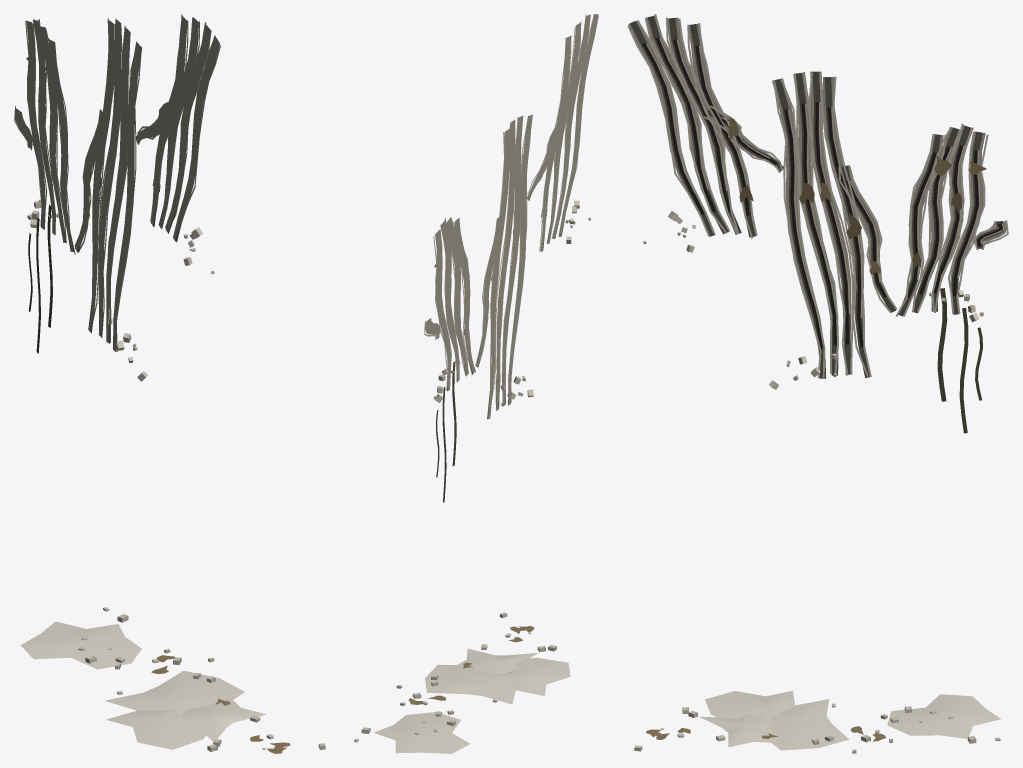
The model's file is skin_scratches.glb.
3 renders of one model, left to right at view 1: azimuth 30°, elevation 25°; view 2: azimuth 150°, elevation 25°; view 3: azimuth 270°, elevation 25°, orthographic. The views are drawn at different scales.
Visible parts, largest first — view 1: teil0, teil7, teil3, teil6, teil1; view 2: teil0, teil7, teil3, teil6, teil1; view 3: teil3, teil1, teil0, teil7, teil2, teil6, teil5, teil4.
Boxes of the visible parts, box(x1,y1,x2,y2) form: teil0: box(14, 15, 219, 351); teil7: box(20, 621, 266, 749); teil3: box(14, 14, 325, 751); teil6: box(28, 204, 52, 353); teil1: box(17, 19, 218, 351); teil0: box(425, 14, 598, 418); teil7: box(374, 648, 570, 753); teil3: box(354, 14, 598, 742); teil6: box(436, 361, 456, 502); teil1: box(436, 14, 597, 418); teil3: box(627, 14, 1008, 753); teil1: box(630, 16, 1003, 378); teil0: box(628, 15, 1006, 354); teil7: box(699, 690, 1001, 750); teil2: box(642, 38, 1002, 348); teil6: box(937, 288, 982, 433); teil5: box(646, 118, 986, 741); teil4: box(739, 182, 962, 269).
Size of the model in its own units: 0.3459 by 1.75 by 0.878.
